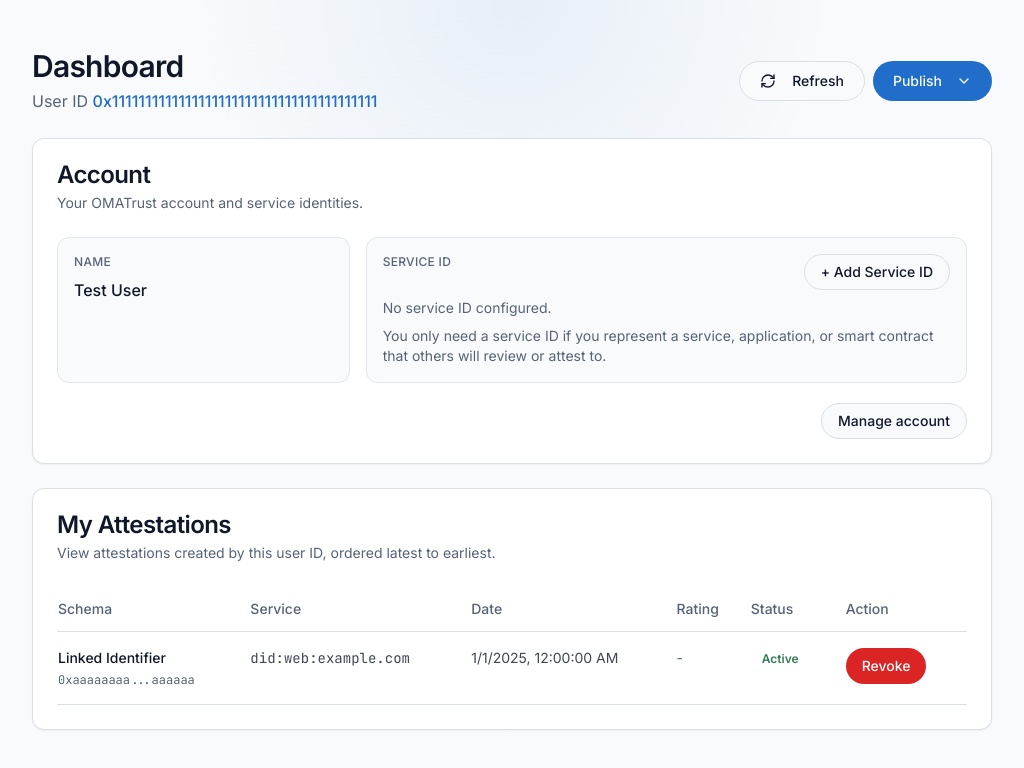
Scenario: Dashboard Page › opens detail modal when attestation row is clicked
This screenshot has width=1024, height=768.
Click the text "Linked Identifier" at (112, 658), box [58,649,166,666]
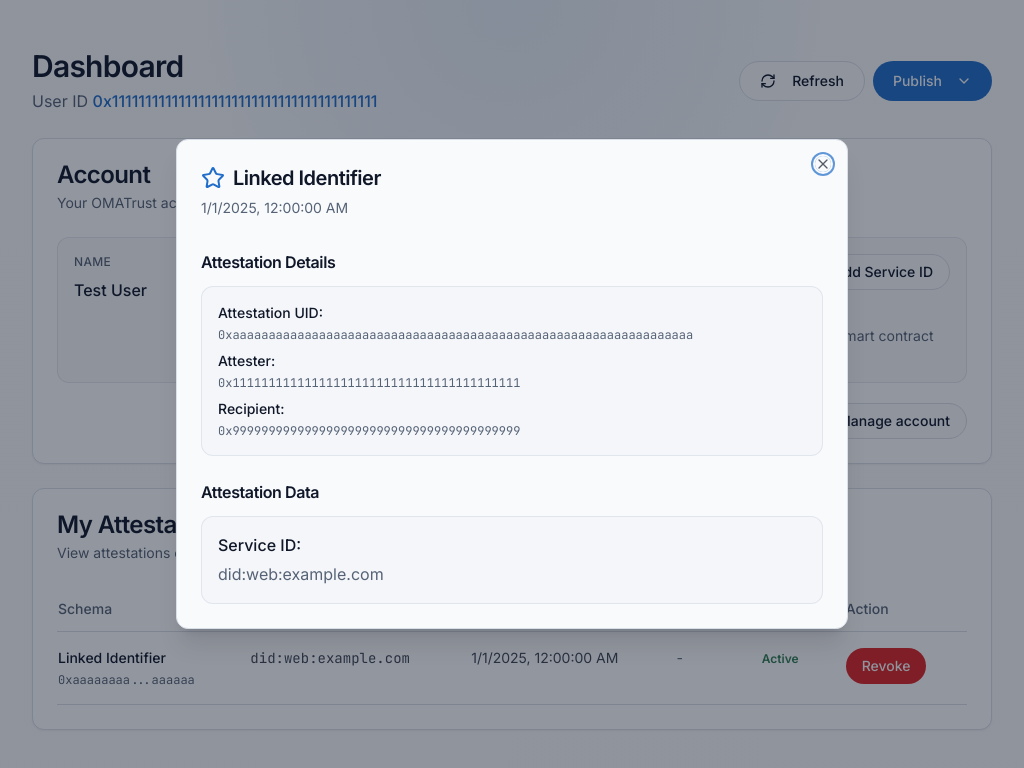
Expected: the text "Attestation UID:" is shown, [218,304,323,321]
